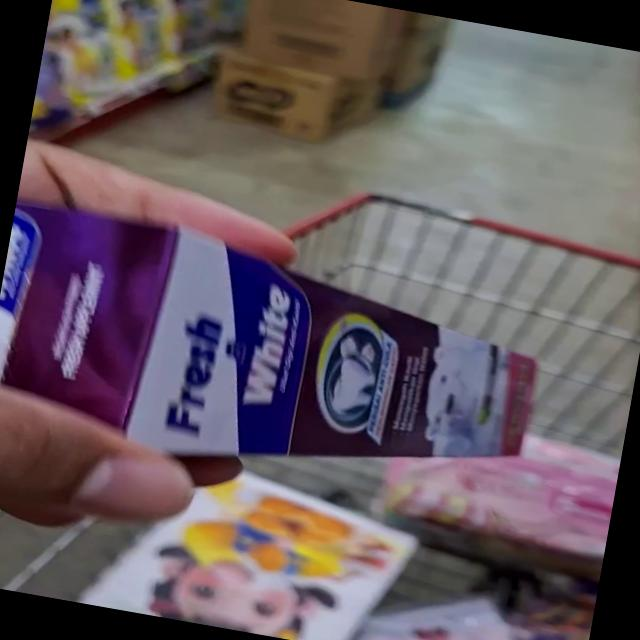Tisu: (84, 443, 405, 640)
Ubat Gigi: (0, 189, 601, 493)
